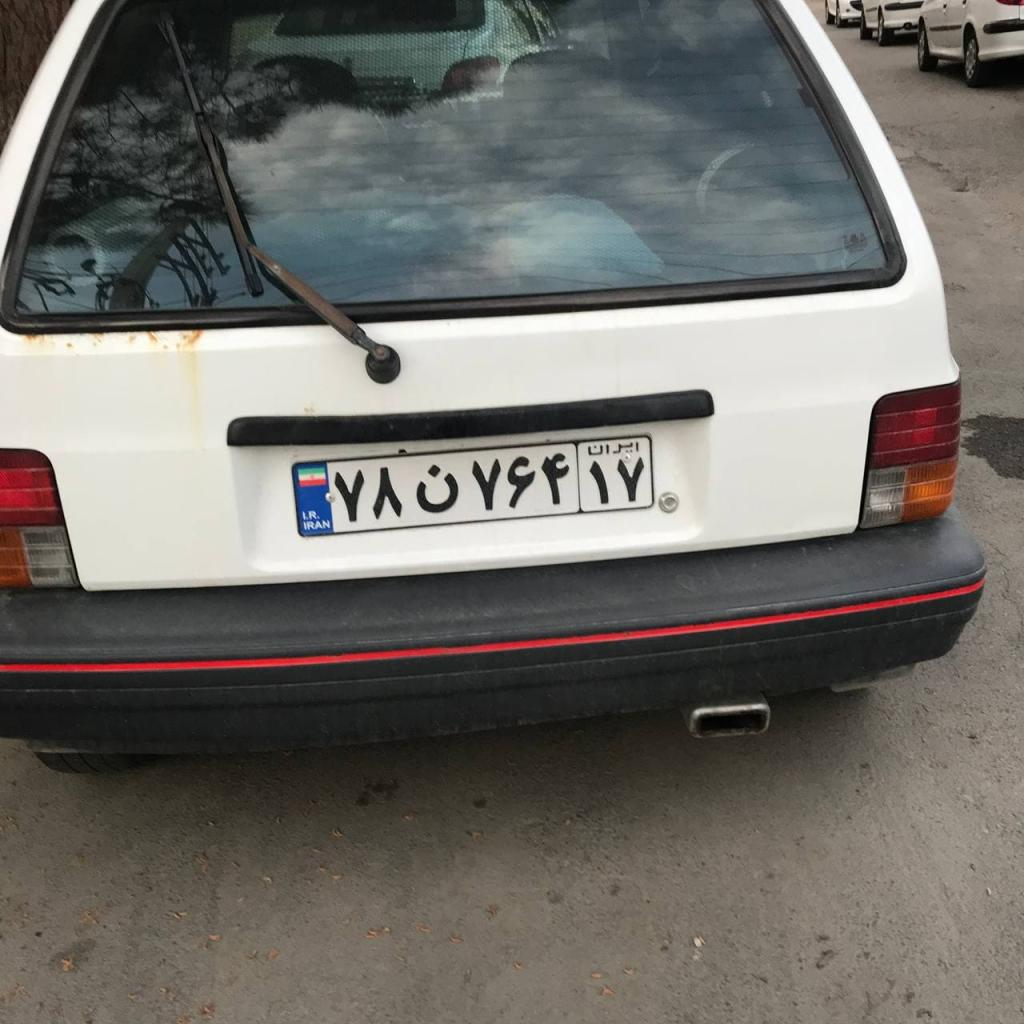Plates: (292, 437, 654, 537)
